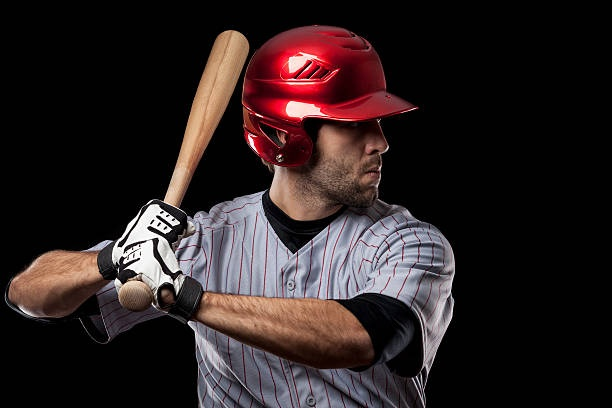bita: (127, 32, 252, 286)
